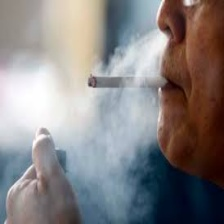smoke: (21, 90, 154, 160), (111, 39, 166, 72)
